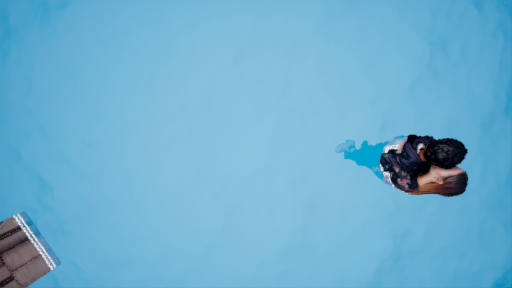person: (340, 135, 471, 203)
